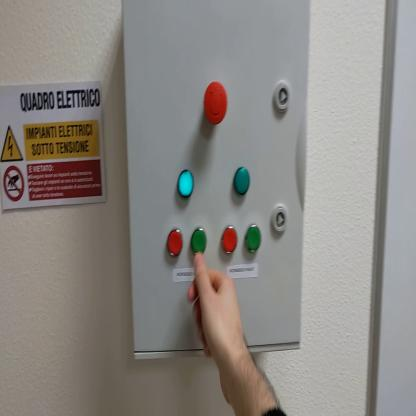hand: (188, 252, 248, 371)
left green button: (194, 226, 211, 254)
left red button: (169, 228, 185, 258)
right green button: (248, 226, 263, 253)
right red button: (223, 225, 238, 254)
